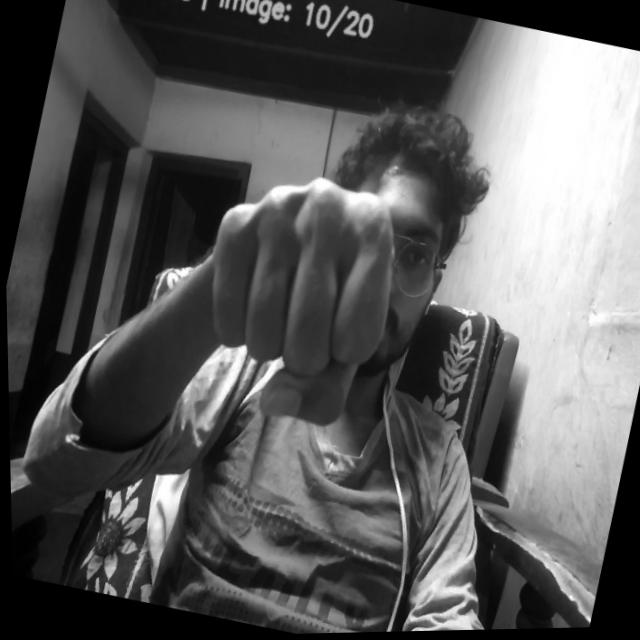Yes: (180, 156, 419, 446)
